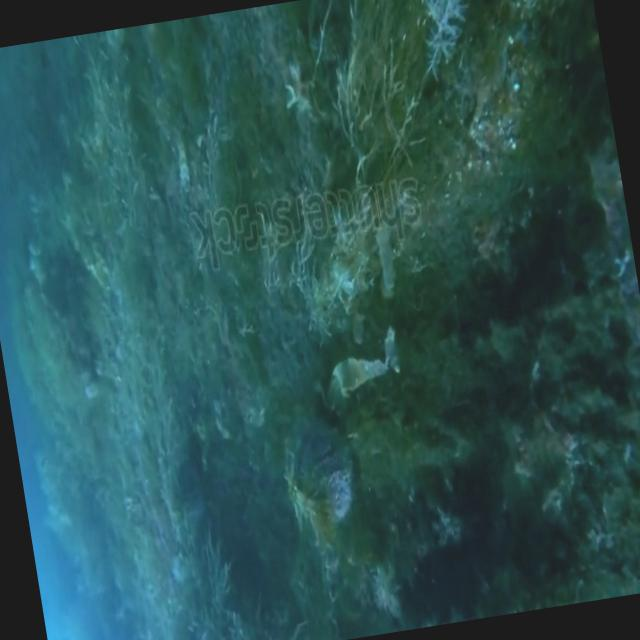Deniz Kestanesi: (280, 412, 359, 530)
